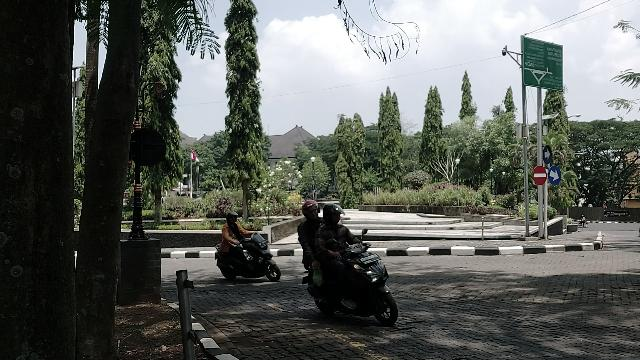helm: (323, 203, 347, 227), (302, 200, 322, 222), (227, 212, 240, 225)
motor: (301, 228, 401, 329), (215, 231, 284, 286)
